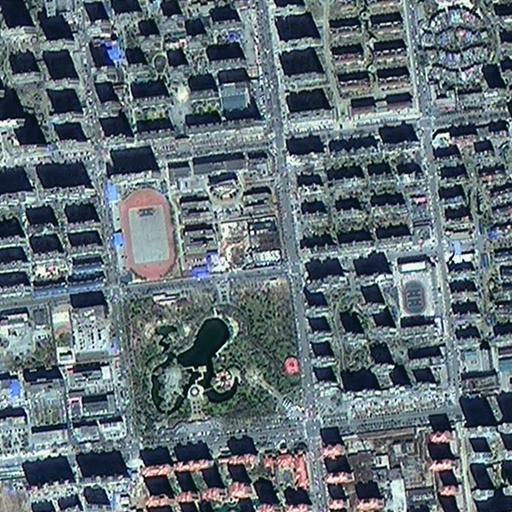school: (105, 149, 285, 283), (394, 256, 440, 321)
